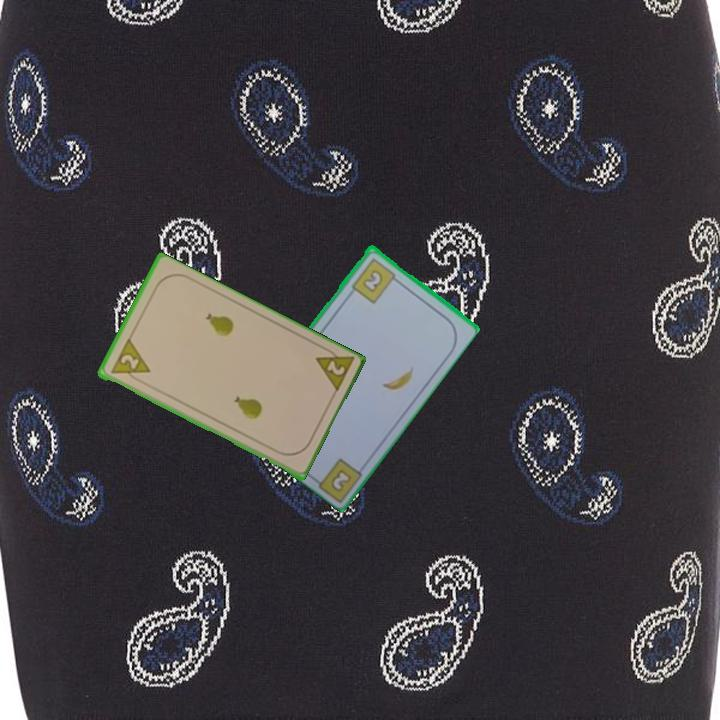2b: (348, 254, 402, 306), (327, 465, 354, 495)
2p: (311, 342, 356, 397), (107, 337, 153, 385)
